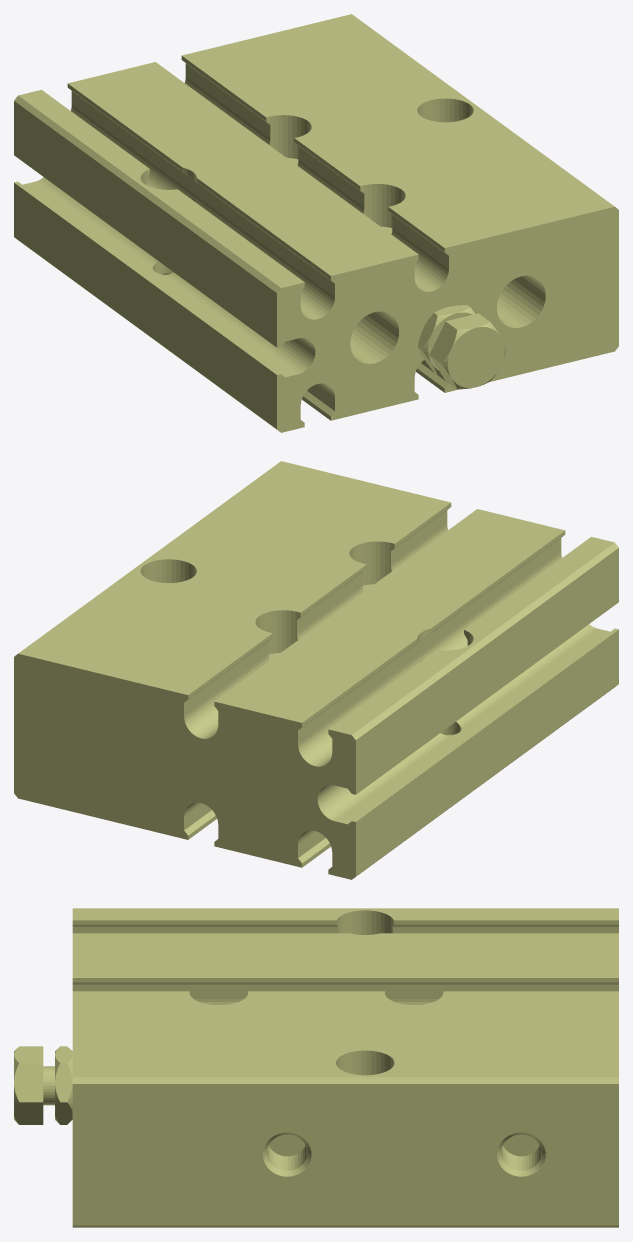
File: case-02_lib00001.glb
3 renders of one model, top to bottom at view 1: azimuth 30°, elevation 25°; view 2: azimuth 150°, elevation 25°; view 3: azimuth 270°, elevation 25°, orthographic. The views are drawn at different scales.
Parts seen in each view (by area): view 1: lib00001; view 2: lib00001; view 3: lib00001.
Part boxes in pixels (x1=…): lib00001: x1=14, y1=14, x2=618, y2=432; lib00001: x1=14, y1=461, x2=618, y2=879; lib00001: x1=14, y1=908, x2=618, y2=1227.
Bounding box in the file's own units: 42 × 17 × 62.
